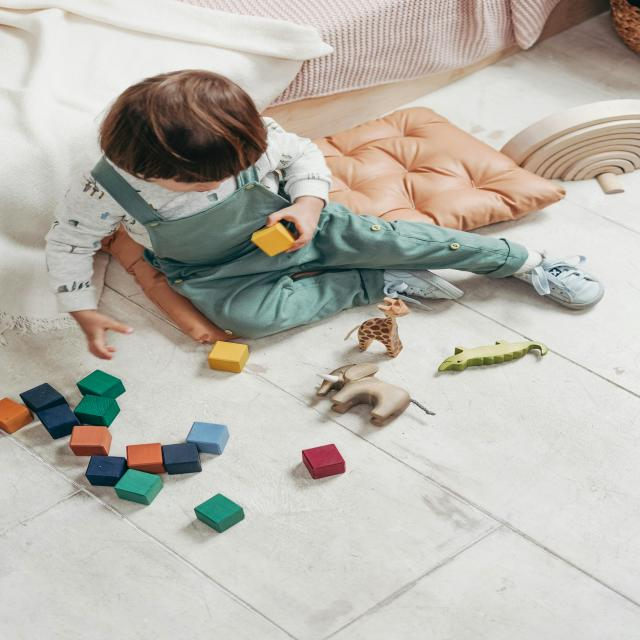sit: (68, 65, 588, 338)
